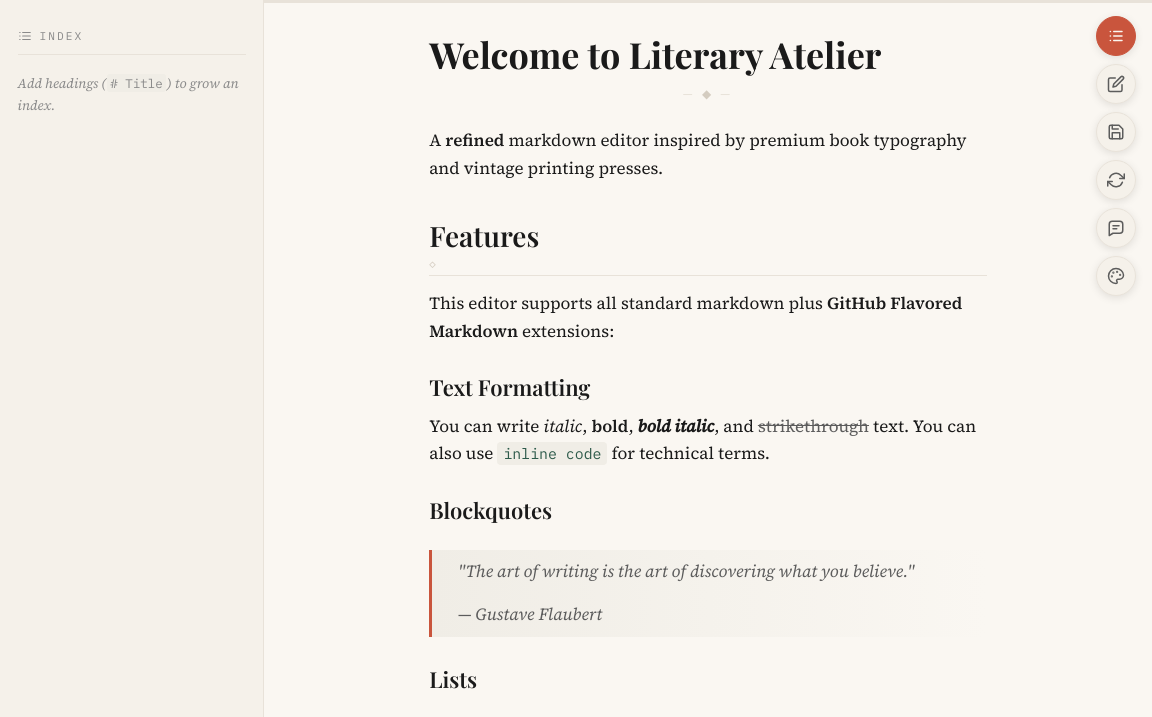
Test: App › shows saved comments and responses in the comments pane
The image size is (1152, 717).
Click the button named "show comments".
click(1116, 228)  # box 1096,208 -> 1136,248
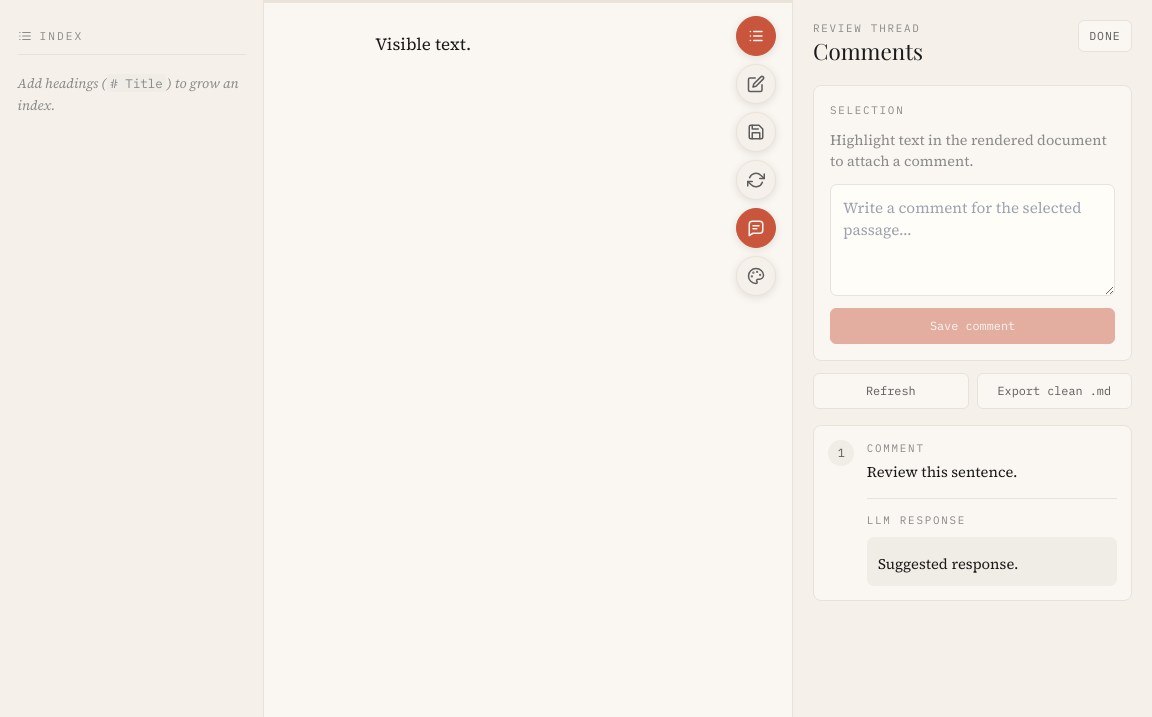
expect the text "Review this sentence." is shown: met, box 867,462 -> 1018,482
expect the text "Suggested response." is shown: met, box 878,554 -> 1018,574
expect the text "Visible text." is shown once: met, box 375,32 -> 471,56
